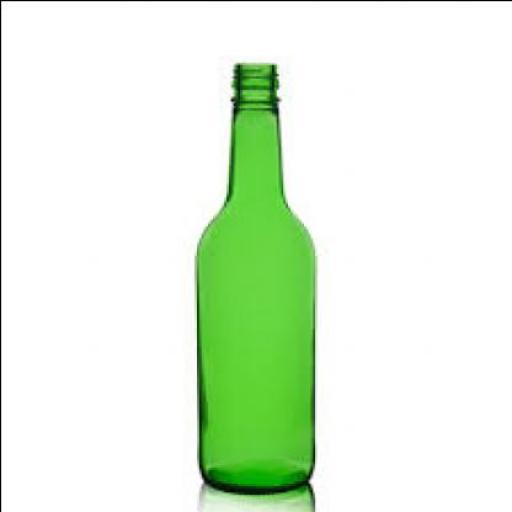glass: (191, 58, 312, 492)
